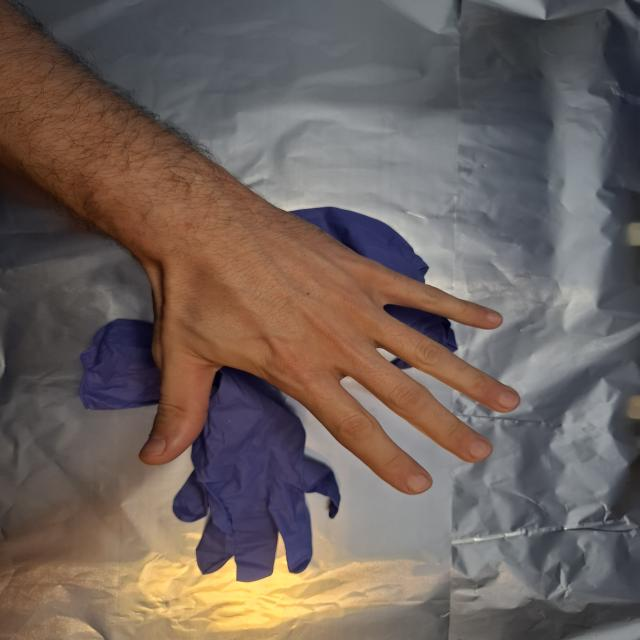glove_off: (134, 243, 524, 496)
